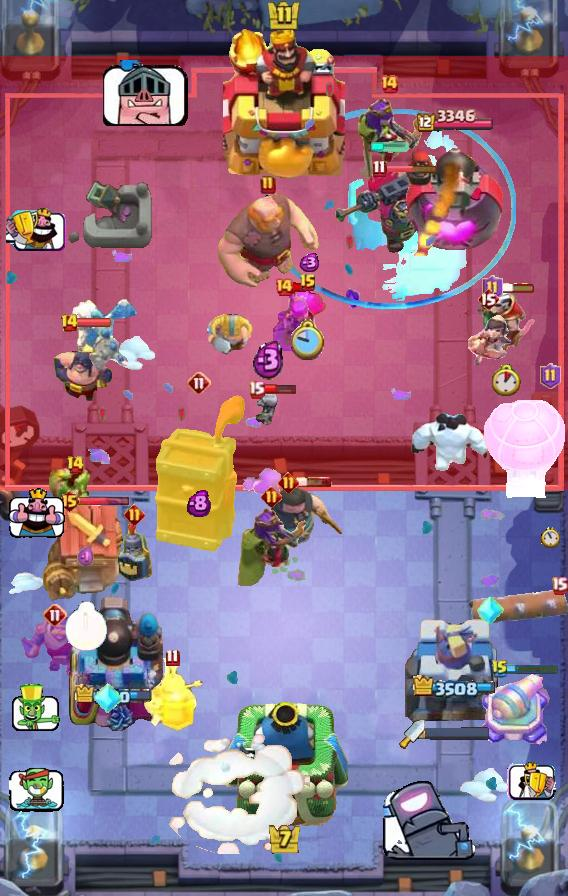balloon: (214, 190, 322, 290)
bar: (405, 611, 501, 731)
barbarian-hut: (232, 506, 310, 592), (353, 96, 428, 182)
cannon-cart: (480, 393, 568, 501)
dart-goblin: (152, 394, 246, 554)
earthquake: (141, 658, 203, 734)
electro-spirit: (251, 340, 285, 381), (187, 489, 211, 517), (296, 253, 319, 272), (76, 545, 95, 568)
elixir: (64, 601, 108, 652), (290, 319, 325, 360), (492, 364, 520, 396), (540, 527, 560, 548)
emote: (508, 663, 561, 675), (78, 497, 130, 508), (384, 163, 438, 173), (500, 282, 536, 294), (76, 316, 112, 328), (296, 476, 332, 488), (264, 383, 297, 395), (291, 283, 309, 294)
evolution-symbol: (273, 286, 321, 351)
firecracker: (21, 616, 92, 676)
flying-machine: (47, 464, 103, 524)
goblin-giant: (206, 313, 254, 356)
heal-spirit: (254, 393, 282, 427)
ice-spirit: (370, 141, 410, 153)
inferno-tower: (334, 166, 446, 254)
king-tower: (223, 27, 345, 181), (220, 702, 348, 827)
king-tower-bar: (425, 727, 489, 740)
miner: (288, 291, 328, 319)
mini-pekka: (69, 298, 141, 374)
minion: (468, 589, 568, 625)
monk: (51, 326, 113, 404)
pad_0: (263, 109, 517, 311)
pad_2: (476, 593, 504, 627), (94, 681, 122, 715)
princess: (112, 517, 156, 585)
rage: (408, 410, 492, 474)
royal-hog: (253, 481, 345, 553)
royal-recruit: (476, 670, 553, 752)
selected: (411, 675, 495, 699), (414, 110, 494, 135), (74, 684, 154, 708)
skeleton: (383, 781, 479, 864), (102, 60, 189, 126), (7, 489, 64, 540), (5, 207, 66, 253), (10, 684, 62, 734), (8, 768, 63, 812), (506, 763, 556, 802)
skeleton-dragon: (463, 312, 513, 368)
skeleton-king: (474, 286, 538, 356)
sparky: (43, 505, 129, 603)
text: (187, 371, 211, 395), (43, 603, 67, 627), (58, 489, 81, 513), (481, 275, 502, 301), (540, 363, 561, 389), (477, 287, 499, 311), (277, 471, 298, 492), (261, 485, 282, 506), (123, 504, 144, 525), (379, 74, 399, 94), (274, 277, 294, 297), (60, 313, 79, 333), (67, 455, 86, 475), (299, 273, 317, 293), (491, 659, 509, 679), (260, 175, 276, 195), (247, 381, 264, 399), (552, 577, 568, 595), (373, 159, 387, 177), (165, 649, 179, 667)
tower-bar: (65, 593, 163, 731), (404, 138, 505, 256)
wall-breaker: (158, 732, 310, 854)
